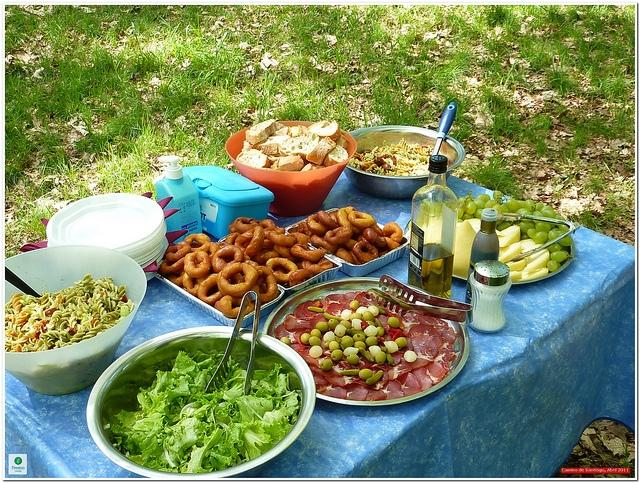lettuce: (193, 416, 245, 474), (181, 426, 225, 474), (164, 417, 210, 455), (234, 426, 273, 462), (120, 365, 170, 389), (235, 395, 273, 423), (264, 416, 294, 446), (139, 430, 164, 461), (156, 447, 192, 468), (255, 356, 296, 374), (114, 409, 144, 429), (132, 416, 166, 432), (173, 350, 195, 374), (190, 404, 216, 424), (216, 402, 237, 426), (180, 398, 202, 418), (223, 371, 245, 390), (263, 409, 290, 424), (104, 397, 132, 411), (126, 435, 146, 454), (226, 360, 240, 380), (194, 369, 208, 388), (166, 410, 182, 423), (172, 368, 186, 380), (276, 384, 286, 398), (185, 396, 198, 406), (192, 360, 200, 372), (157, 391, 165, 401), (144, 392, 149, 398)
